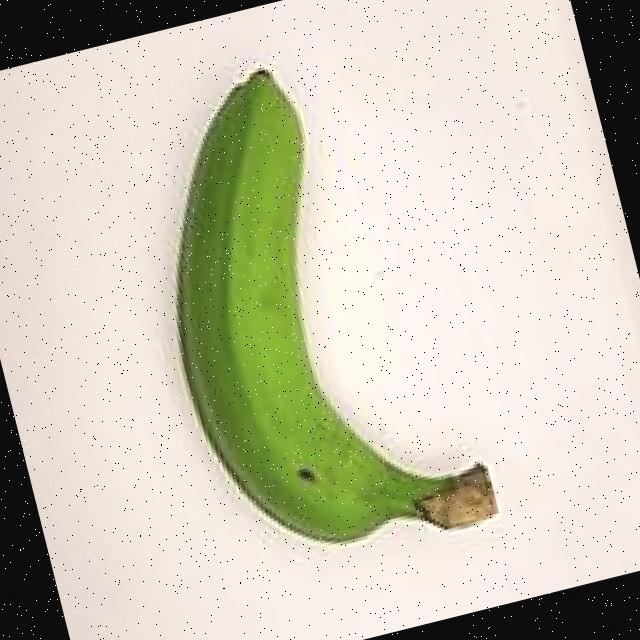Raw: (66, 6, 538, 640)
